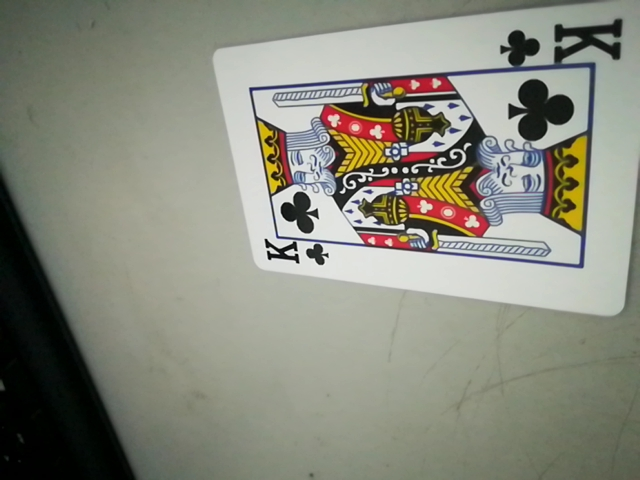mh k: (499, 15, 626, 72), (258, 235, 332, 273)
